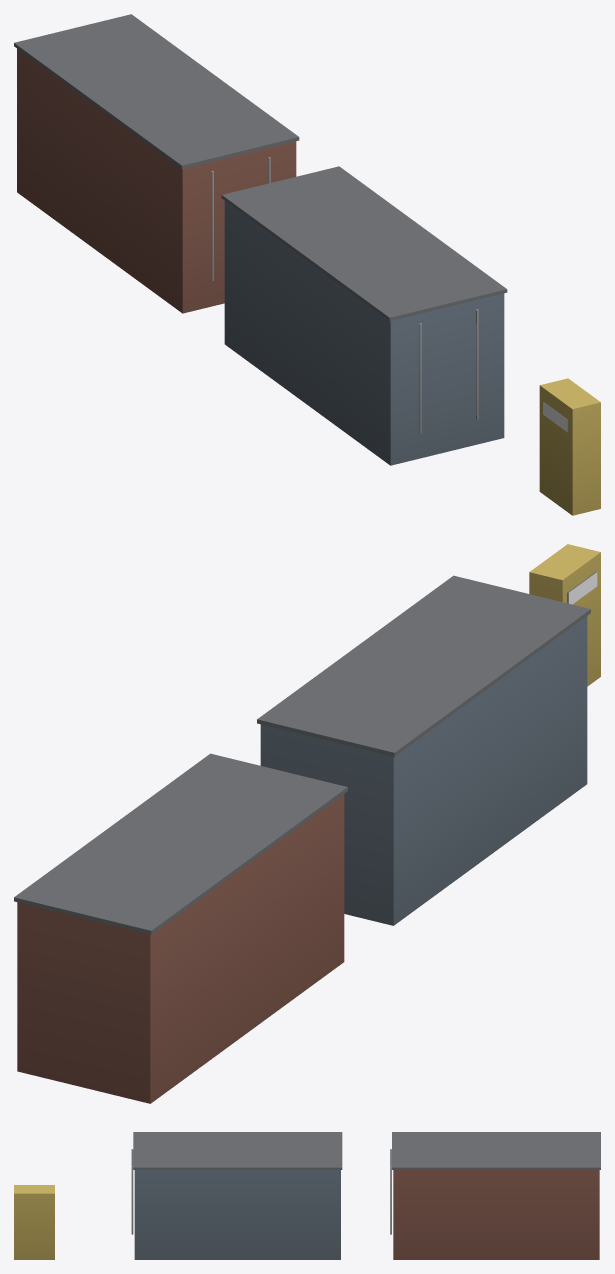
File: store.glb
The picture shows the model from 3 angles, top to bottom: view 1: azimuth 30°, elevation 25°; view 2: azimuth 150°, elevation 25°; view 3: azimuth 270°, elevation 25°; orthographic projection. The views are drawn at different scales.
Parts seen in each view (by area): view 1: store; view 2: store; view 3: store.
Boxes of the visible parts, x1,y1,x2,y2 form: store: [14, 14, 600, 515]; store: [14, 544, 600, 1103]; store: [14, 1132, 600, 1259].
Size of the model in its own units: 2.48 by 3.01 by 17.24.
